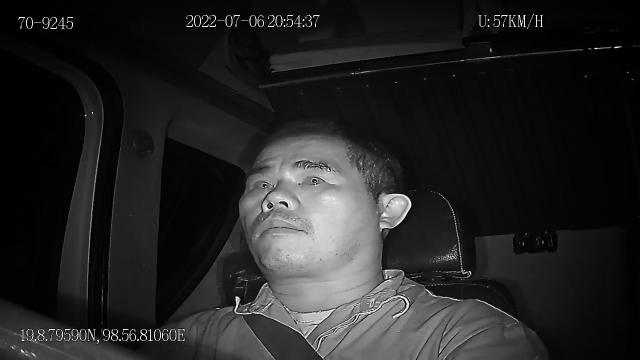SafeDriving: (293, 165, 333, 190), (245, 172, 277, 195)
Seatbelt: (221, 270, 327, 360)
